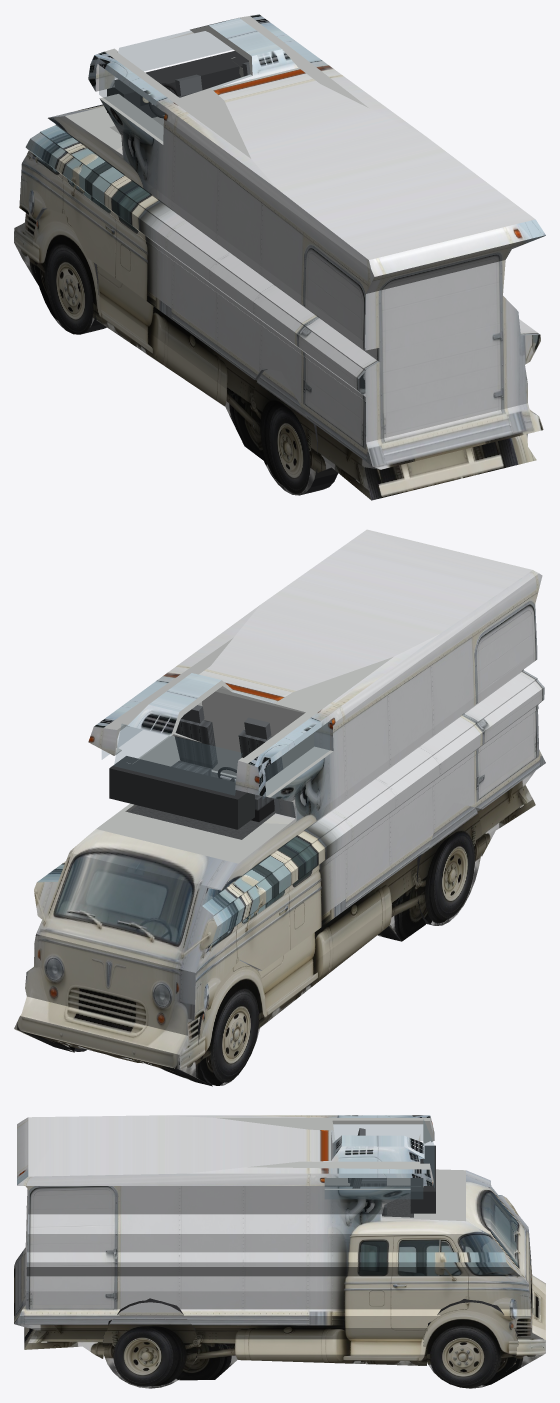
The model's file is refrigerated_truck.glb.
The picture shows the model from 3 angles, top to bottom: view 1: azimuth 30°, elevation 25°; view 2: azimuth 150°, elevation 25°; view 3: azimuth 270°, elevation 25°; orthographic projection. The views are drawn at different scales.
Visible parts, largest first — view 1: refrigerated_truck, refrigerated_truck_cabin, wheel_BL, wheel_FL; view 2: refrigerated_truck, refrigerated_truck_cabin, wheel_BL, wheel_FL; view 3: refrigerated_truck, wheel_BR, wheel_FR, refrigerated_truck_cabin.
Part boxes in pixels (box(x1,y1,x2,y2)): refrigerated_truck: box(14, 14, 545, 500); refrigerated_truck_cabin: box(99, 30, 250, 140); wheel_BL: box(252, 369, 338, 495); wheel_FL: box(32, 209, 106, 334); refrigerated_truck: box(14, 529, 545, 1086); refrigerated_truck_cabin: box(102, 705, 329, 839); wheel_BL: box(417, 802, 482, 925); wheel_FL: box(197, 960, 263, 1085); refrigerated_truck: box(14, 1115, 545, 1381); wheel_BR: box(102, 1298, 197, 1388); wheel_FR: box(423, 1299, 518, 1388); refrigerated_truck_cabin: box(324, 1119, 435, 1217).
Bounding box in the file's own units: 2.45 × 4.05 × 8.49.
12 materials, 4 textured.
